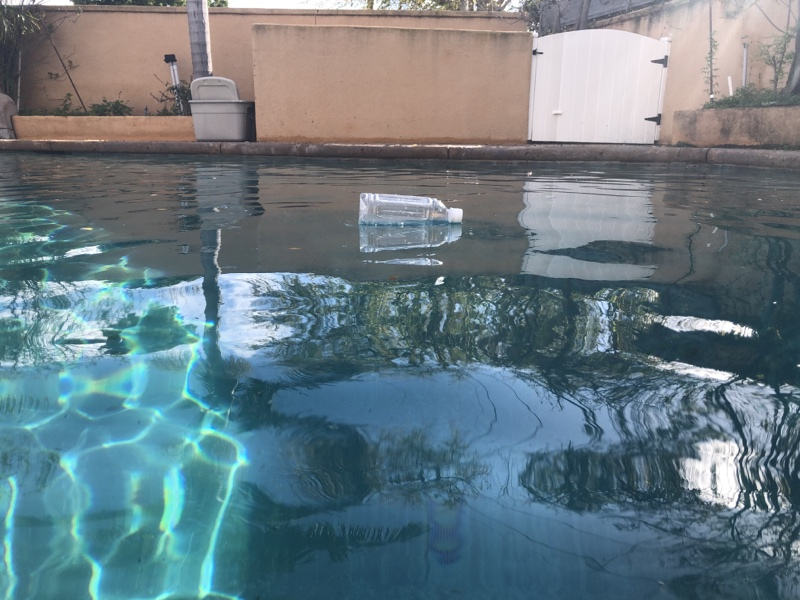Plastic Bottle: (356, 185, 467, 231)
